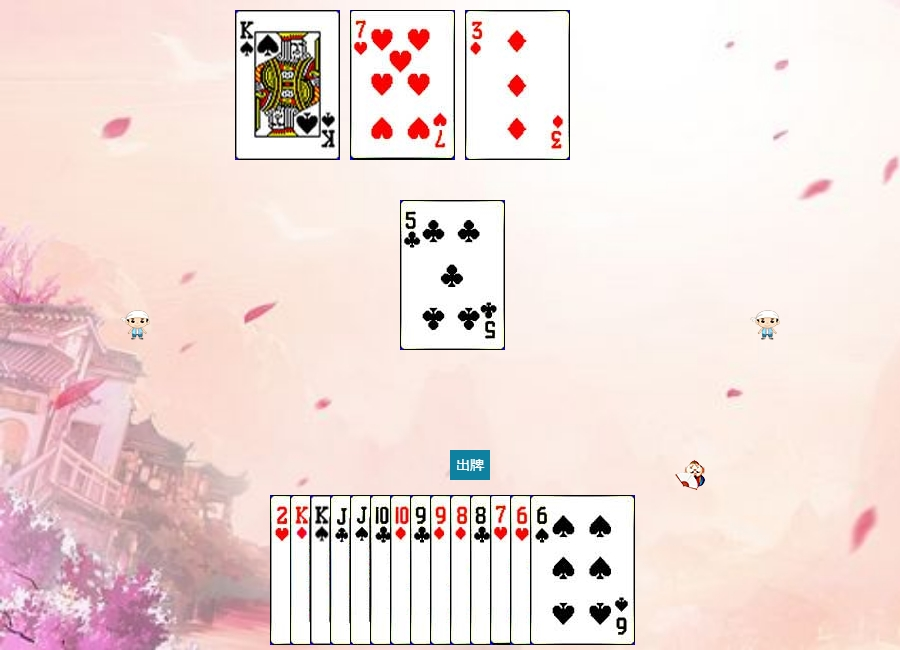10~1: (390, 495, 495, 645)
10~2: (370, 495, 475, 645)
11~2: (330, 495, 435, 645)
11~4: (350, 495, 455, 645)
13~1: (290, 495, 395, 645)
13~4: (235, 10, 340, 160), (310, 495, 415, 645)
15~3: (270, 495, 375, 645)
3~1: (465, 10, 570, 160)
5~2: (400, 200, 505, 350)
6~3: (510, 495, 615, 645)
6~4: (530, 495, 635, 645)
7~3: (350, 10, 455, 160), (490, 495, 595, 645)
8~1: (450, 495, 555, 645)
8~2: (470, 495, 575, 645)
9~1: (430, 495, 535, 645)
9~2: (410, 495, 515, 645)
